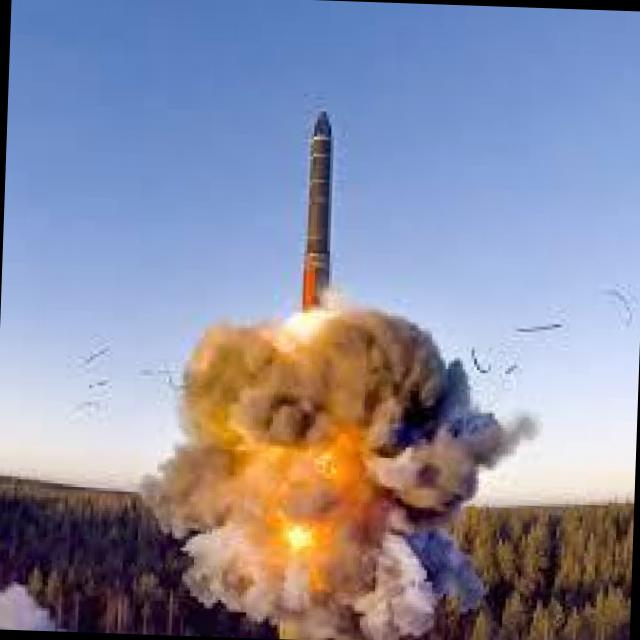rocket: (278, 104, 349, 357)
